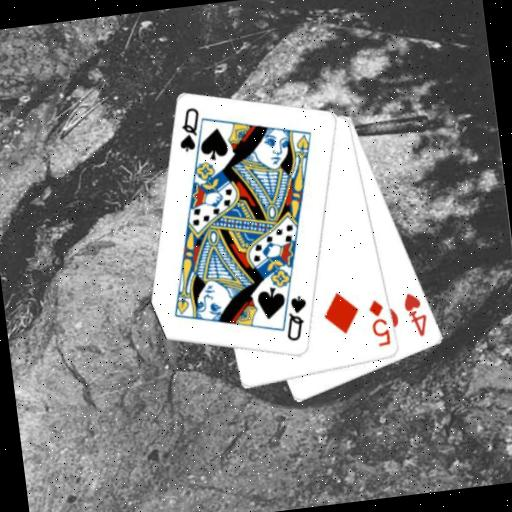4H: (400, 288, 432, 340)
5D: (365, 296, 394, 349)
QS: (280, 292, 313, 344), (172, 105, 205, 155)
